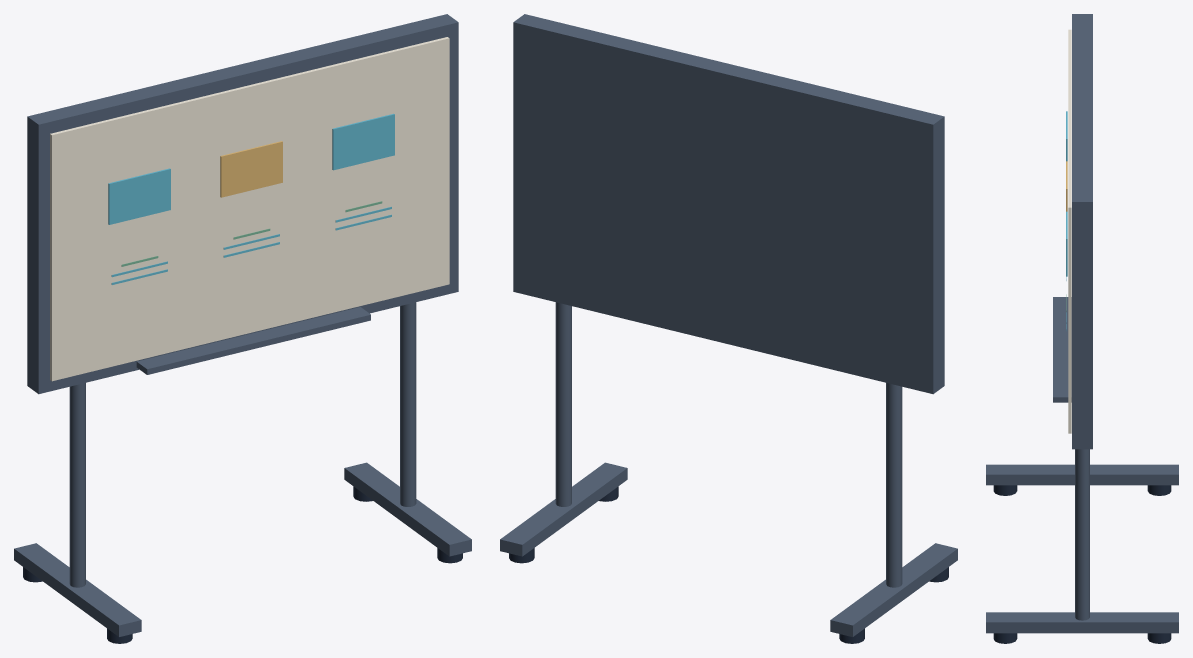
Rendered from officeWhiteboard.glb.
3 renders of one model, left to right at view 1: azimuth 30°, elevation 25°; view 2: azimuth 150°, elevation 25°; view 3: azimuth 270°, elevation 25°, orthographic. The views are drawn at different scales.
Size of the model in its own units: 1.5 by 1.7 by 0.65.
